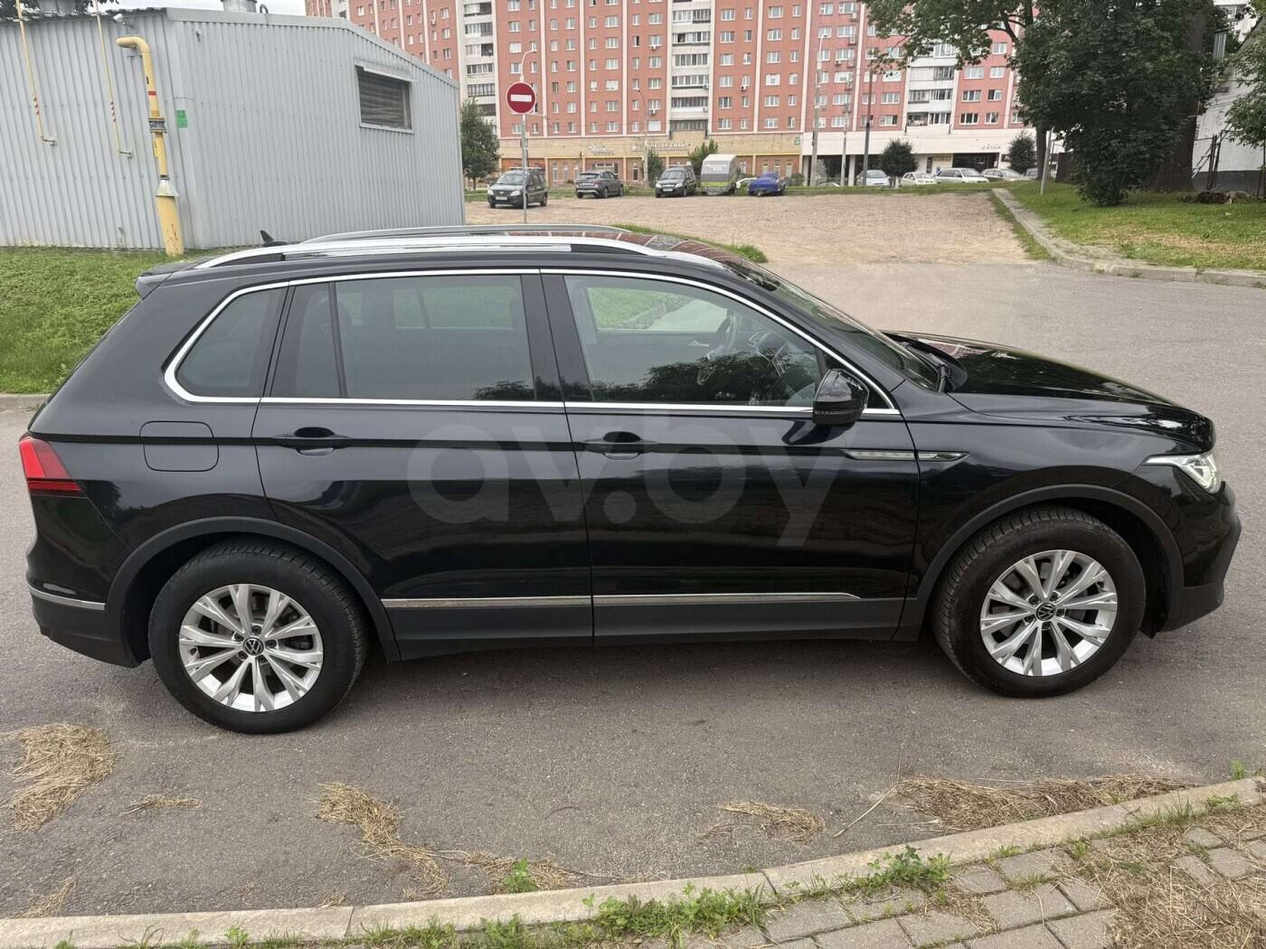Tiguan_2020-2024: (18, 231, 1244, 737)
